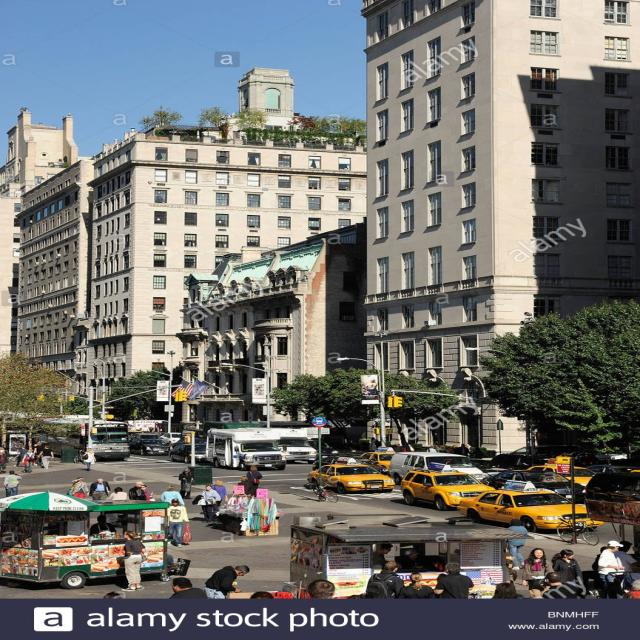body: (248, 575, 366, 599), (426, 433, 488, 466), (488, 544, 525, 599), (520, 547, 556, 599), (120, 530, 149, 593), (433, 544, 470, 592), (597, 540, 626, 599), (204, 564, 252, 599), (363, 560, 406, 598), (162, 497, 194, 548), (612, 540, 640, 597), (434, 561, 475, 599), (541, 571, 586, 599), (191, 484, 222, 524), (550, 549, 584, 585), (506, 518, 529, 571), (367, 436, 405, 467), (397, 572, 437, 599), (589, 544, 613, 588), (167, 576, 208, 598), (127, 480, 147, 520), (210, 478, 229, 513), (400, 548, 430, 570), (177, 466, 196, 500), (89, 514, 118, 536), (246, 464, 264, 498), (371, 543, 394, 569), (2, 470, 23, 498), (88, 477, 112, 501), (159, 485, 186, 506), (66, 476, 90, 499), (36, 444, 55, 469), (104, 486, 128, 505), (362, 374, 380, 398), (618, 578, 639, 598), (79, 448, 97, 471), (12, 444, 29, 468), (21, 449, 37, 474), (238, 475, 256, 496), (32, 441, 44, 466), (99, 589, 128, 599), (126, 422, 151, 433), (138, 484, 152, 502), (32, 443, 42, 465), (0, 449, 8, 474), (528, 497, 548, 504)
